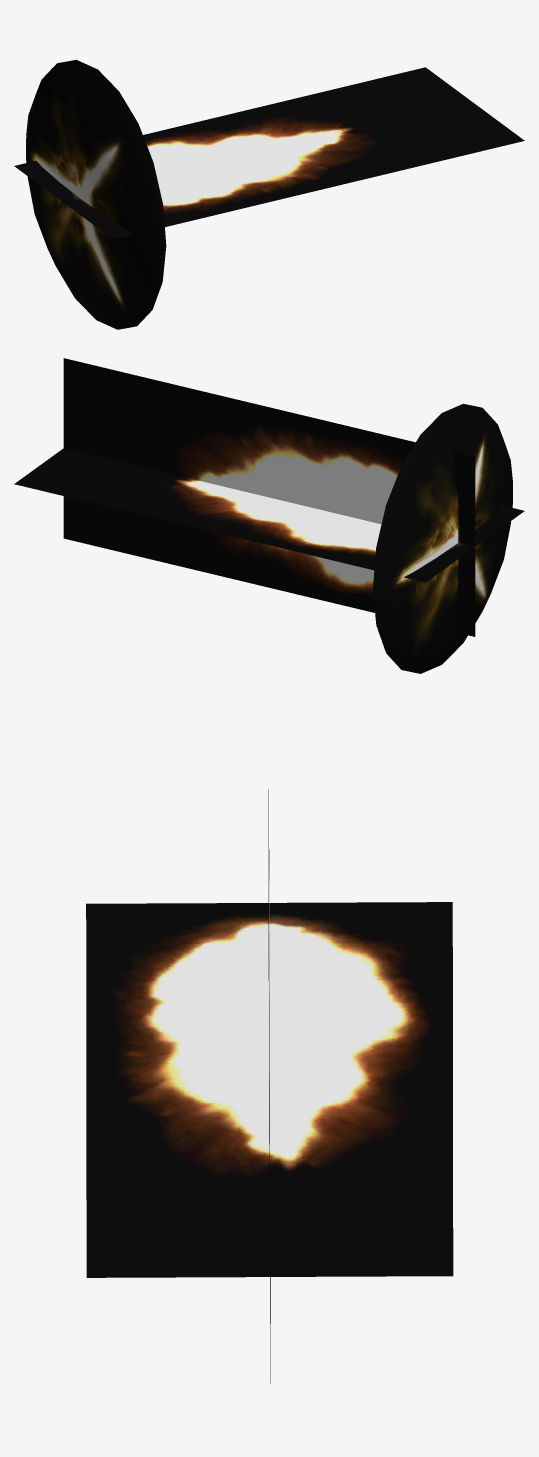
File: USP.glb
3 views of the same model, one above another, from view 1: azimuth 30°, elevation 25°; view 2: azimuth 150°, elevation 25°; view 3: azimuth 270°, elevation 25° (orthographic). The views are drawn at different scales.
Parts seen in each view (by area): view 1: MuzzleFlash; view 2: MuzzleFlash; view 3: MuzzleFlash.
Boxes of the visible parts, <box> form: MuzzleFlash: <box>14,59,524,329</box>; MuzzleFlash: <box>14,358,524,673</box>; MuzzleFlash: <box>86,789,453,1383</box>.
Size of what is drawn, in the model's own units: 0.4286 by 0.2492 by 0.2492.
1 material, 1 textured.
